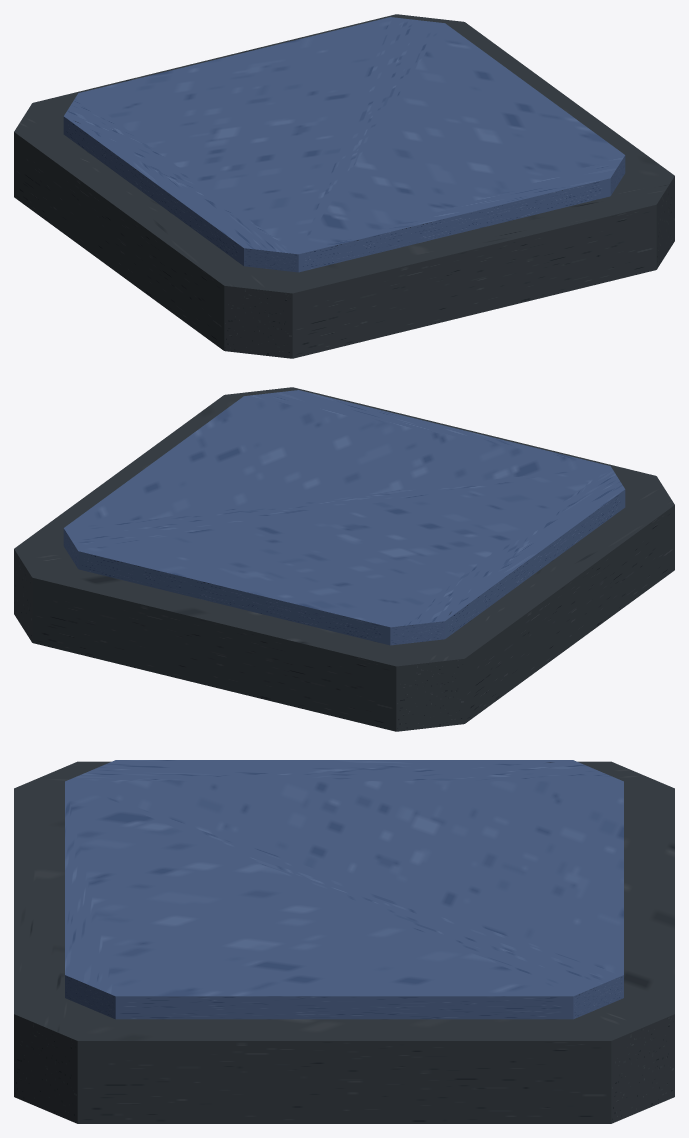
File: RoofHatch.fbx
The picture shows the model from 3 angles, top to bottom: view 1: azimuth 30°, elevation 25°; view 2: azimuth 150°, elevation 25°; view 3: azimuth 270°, elevation 25°; orthographic projection. The views are drawn at different scales.
Visible parts, largest first — view 1: RoofHatch; view 2: RoofHatch; view 3: RoofHatch.
Part boxes in pixels (box(x1,y1,x2,y2)): RoofHatch: box(14, 14, 674, 358); RoofHatch: box(14, 387, 674, 731); RoofHatch: box(14, 760, 674, 1123).
Size of the model in its own units: 260 by 46 by 260.
